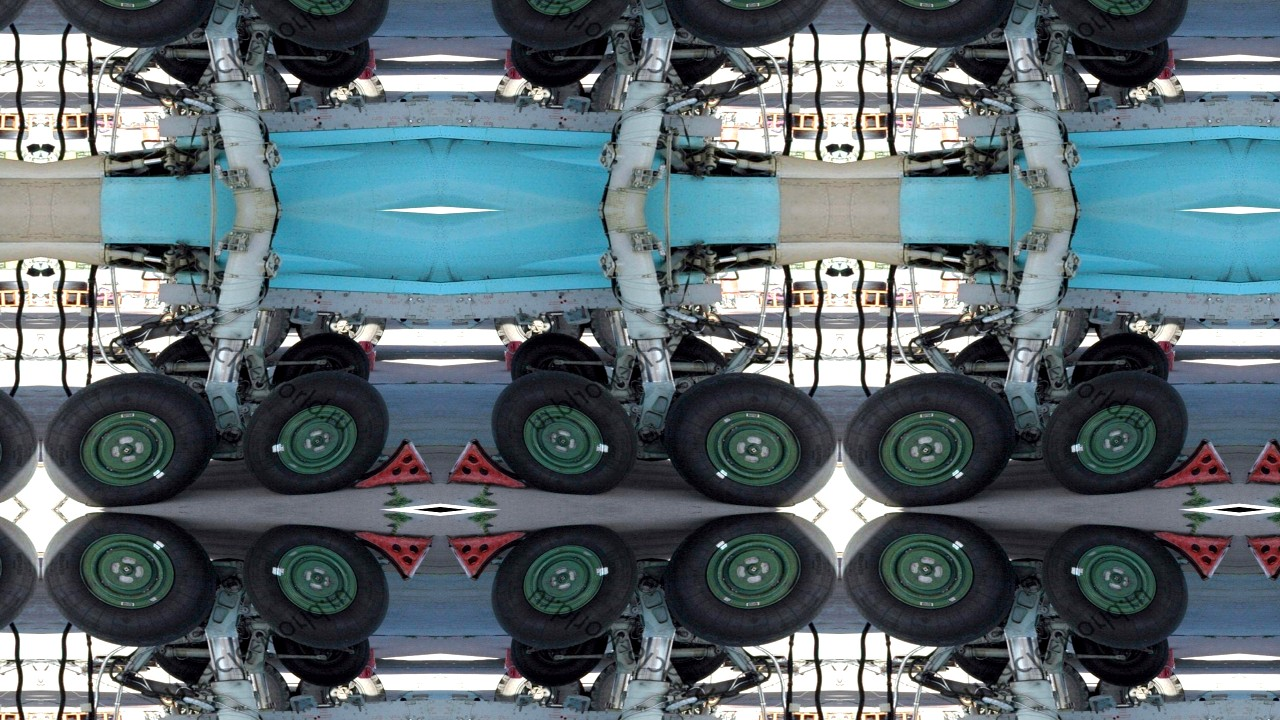chock: (352, 435, 440, 492), (440, 435, 528, 492), (1152, 435, 1240, 492), (352, 528, 440, 585), (440, 528, 528, 585), (1152, 528, 1240, 585), (1240, 435, 1280, 492), (1240, 528, 1280, 585)
wheel: (40, 369, 224, 510), (656, 369, 840, 510), (840, 369, 1024, 510), (40, 510, 224, 651), (656, 510, 840, 651), (840, 510, 1024, 651), (238, 367, 401, 501), (479, 367, 642, 501), (1038, 367, 1201, 501), (238, 519, 401, 653), (479, 519, 642, 653), (1038, 519, 1201, 653), (40, 0, 224, 51), (656, 0, 840, 51), (840, 0, 1024, 51), (238, 0, 401, 53), (479, 0, 642, 53), (1038, 0, 1201, 53), (0, 369, 40, 510), (0, 510, 40, 651), (271, 35, 376, 88), (504, 35, 609, 88), (1071, 35, 1176, 88), (271, 332, 376, 385), (504, 332, 609, 385), (1071, 332, 1176, 385), (271, 635, 376, 688), (504, 635, 609, 688), (1071, 635, 1176, 688), (147, 40, 216, 86), (664, 40, 733, 86), (947, 40, 1016, 86), (147, 334, 216, 380), (664, 334, 733, 380), (947, 334, 1016, 380), (147, 640, 216, 686), (664, 640, 733, 686), (947, 640, 1016, 686)
